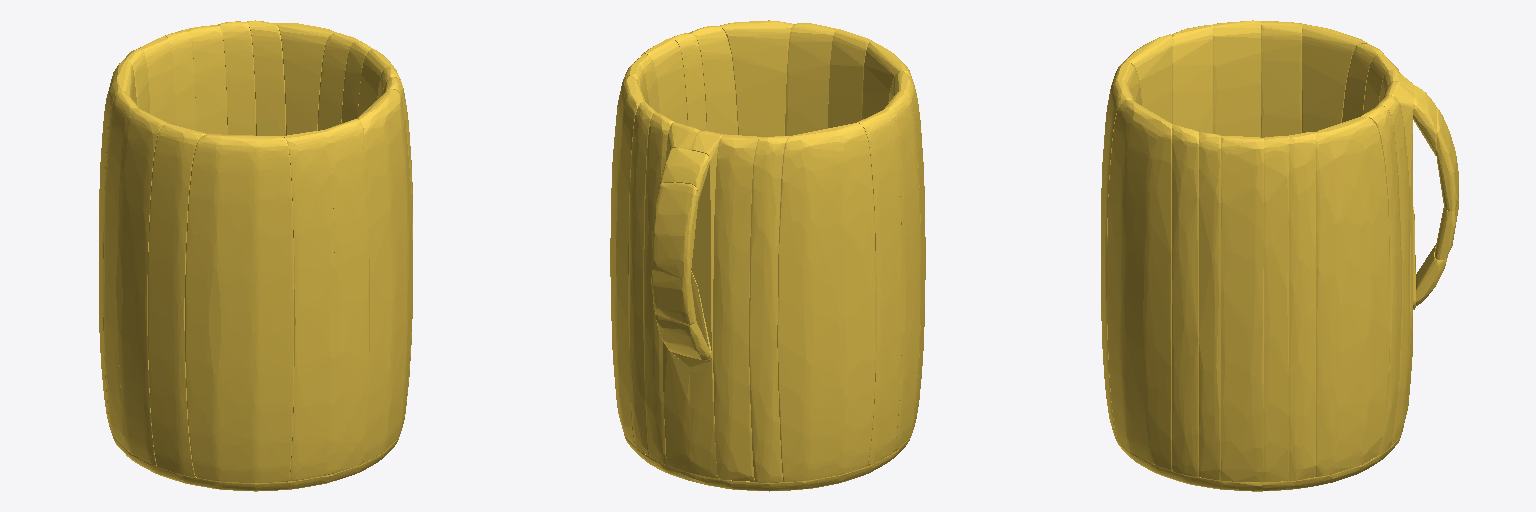
URDF robot description (323.urdf):
<?xml version="1.0" ?>
<robot name="323.urdf">
	<link name="baseLink">
		<inertial>
			<origin rpy="0 0 0" xyz="0 0 0"/>
				<mass value="0.1"/>
				<inertia ixx="6e-5" ixy="0" ixz="0" iyy="6e-5" iyz="0" izz="6e-5"/>
		</inertial>
		<visual>
			<origin rpy="0 0 0" xyz="0 0 0"/>
			<geometry>
				<mesh filename="26_decom_wt.obj" scale="0.98 0.98 1.19"/>
			</geometry>
			<material name="yellow">
				<color rgba="0.98 0.84 0.35 1"/>
			</material>
		</visual>
		<collision>
			<origin rpy="0 0 0" xyz="0 0 0"/>
			<geometry>
				<mesh filename="26_decom_wt.obj" scale="0.98 0.98 1.19"/>
			</geometry>
		</collision>
	</link>
</robot>

--- What the picture shows (computed from the rendered views, not written in the file) ---
The picture shows the robot from 3 angles, left to right: view 1: azimuth 30°, elevation 25°; view 2: azimuth 150°, elevation 25°; view 3: azimuth 270°, elevation 25°; orthographic projection.
Robot: 323.urdf — 1 links, 0 joints (none); root link baseLink; default pose: all joints at 0.
Visible links, largest first — view 1: baseLink; view 2: baseLink; view 3: baseLink.
Boxes of the visible links, left/top/right/bottom form: baseLink: left=99, top=20, right=412, bottom=491; baseLink: left=610, top=20, right=925, bottom=491; baseLink: left=1101, top=20, right=1458, bottom=491.
Size in the robot's own frame: 0.1076 by 0.1227 by 0.1337 metres.
Meshes: 1 distinct files referenced, 1 mesh visuals loaded (1 OBJ).